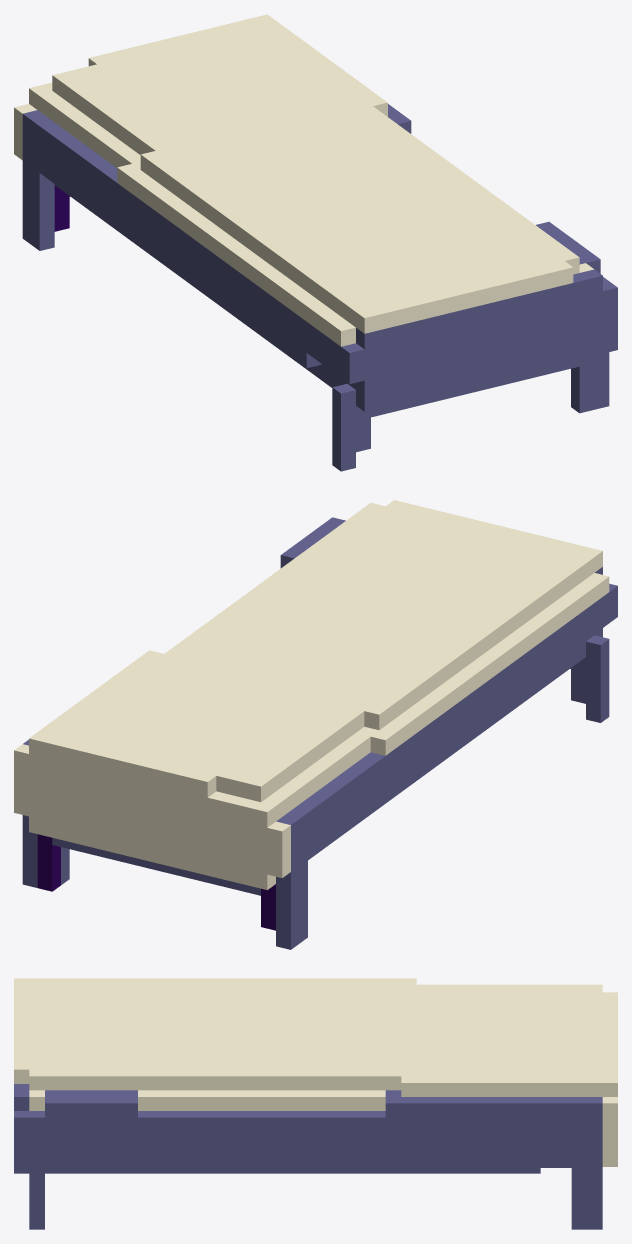
File: couch.obj
3 renders of one model, top to bottom at view 1: azimuth 30°, elevation 25°; view 2: azimuth 150°, elevation 25°; view 3: azimuth 270°, elevation 25°, orthographic. The views are drawn at different scales.
Size of the model in its own units: 18 by 10 by 39.
Materials: 1 (1 with a texture image).
